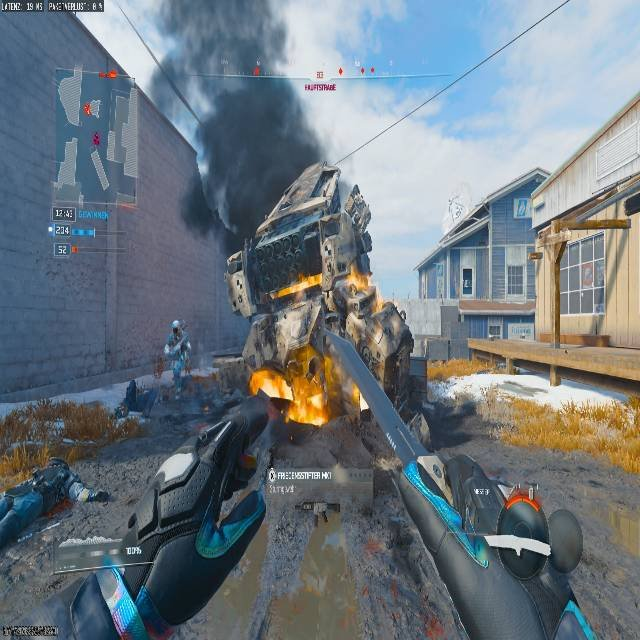player: (164, 325, 191, 397)
